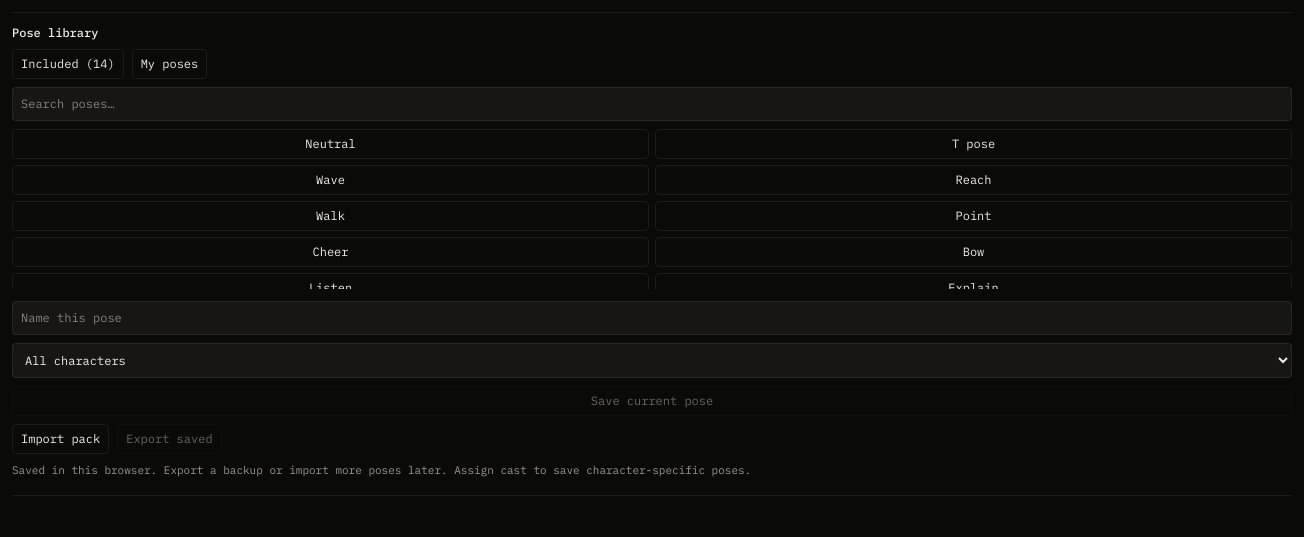
Test: shows write errors and does not claim a pose was saved
The width and height of the screenshot is (1304, 537).
Type "Unsaved" into the field labelled "Pose name" at (652, 318), box [12,301,1292,335]
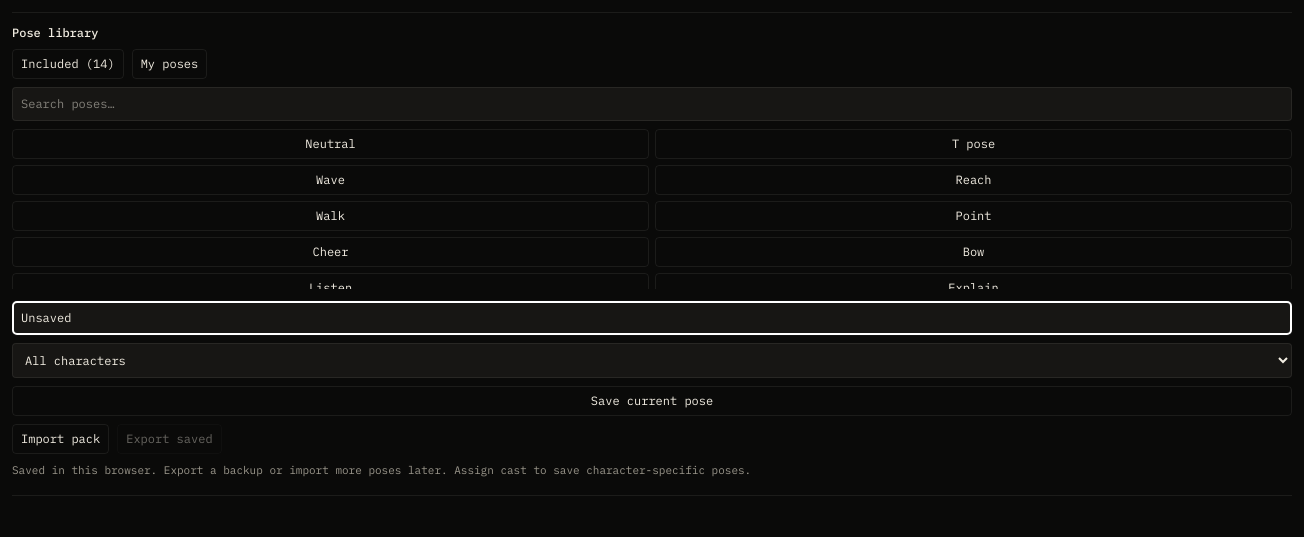
Click the button "Save current pose" at (652, 401), box [12,386,1292,416]
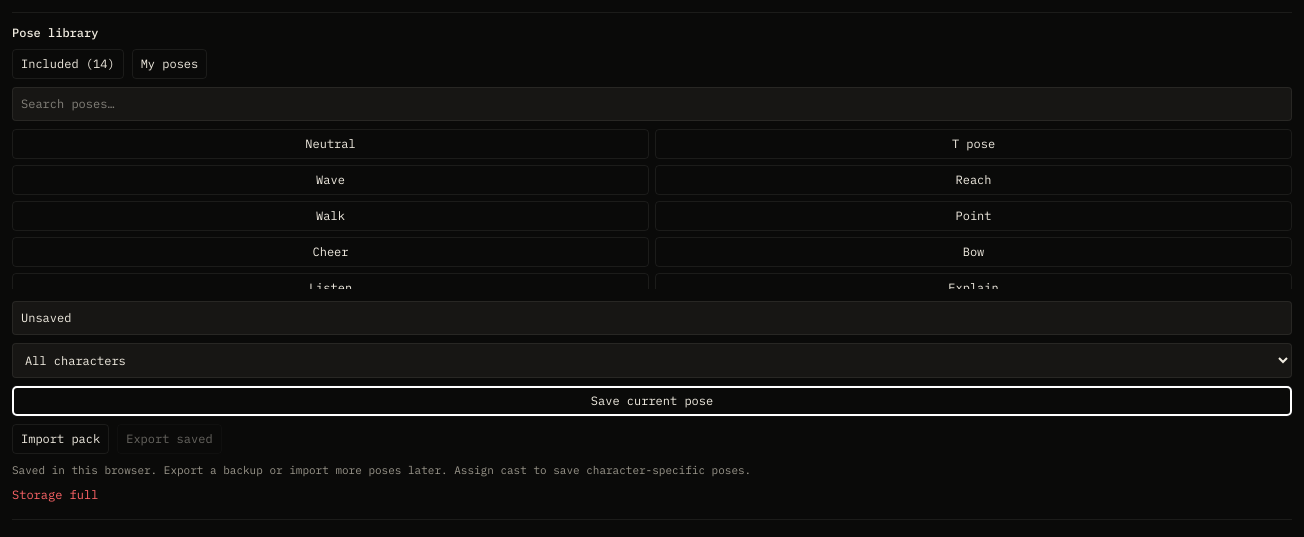
Check: the message does not show "Saved"
Check: the message reads "Storage full", box [12,486,98,502]
